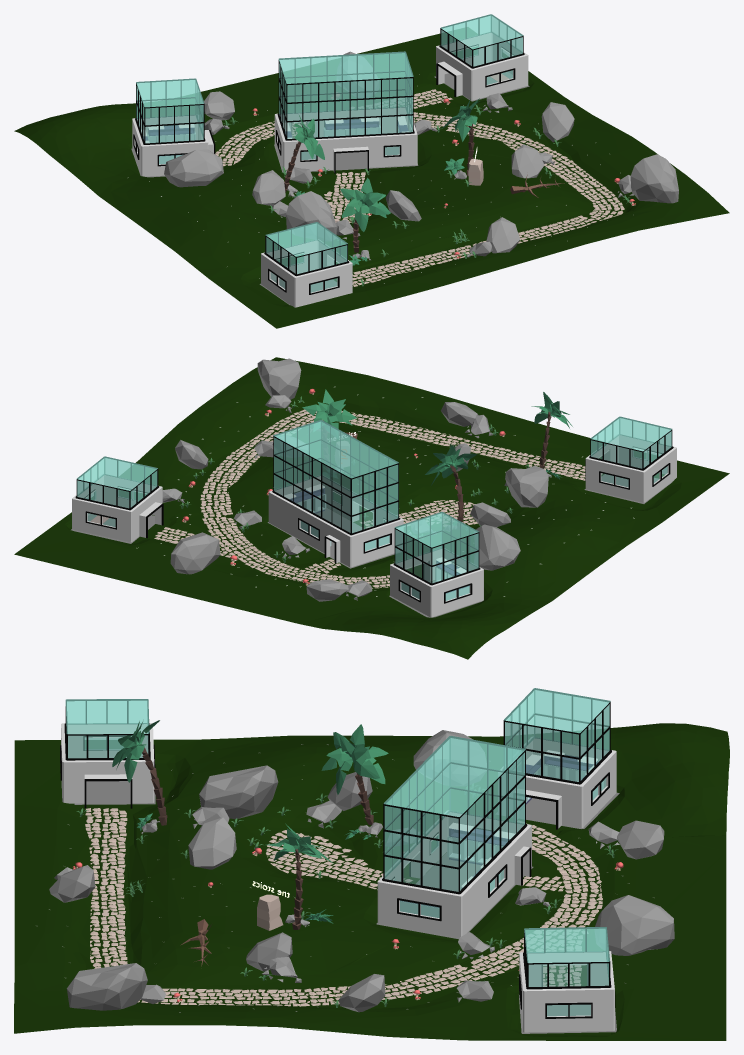
The model's file is garden-final.glb.
3 renders of one model, top to bottom at view 1: azimuth 30°, elevation 25°; view 2: azimuth 150°, elevation 25°; view 3: azimuth 270°, elevation 25°, orthographic. The views are drawn at different scales.
Parts seen in each view (by area): view 1: terrain. base, main building, pathway, yoga room, quiz room, homeopathy building, stone 21, stone 1, stone 20, Plane, palmleaf.002, stone 15 (+10 smaller); view 2: terrain. base, main building, pathway, homeopathy building, quiz room, yoga room, Plane, stone 20, stone 19, stone 1, stone 21, palmleaf.012 (+7 smaller); view 3: terrain. base, main building, pathway, homeopathy building, yoga room, quiz room, Plane, stone 19, stone 21, stone 1, stone 20, palmleaf.005 (+13 smaller).
Boxes of the visible parts, x1,y1,x2,y2 form: terrain. base: [14, 27, 729, 328]; main building: [274, 51, 417, 173]; pathway: [215, 89, 624, 286]; yoga room: [436, 14, 528, 100]; quiz room: [261, 222, 352, 307]; homeopathy building: [132, 78, 215, 176]; stone 21: [630, 154, 678, 203]; stone 1: [286, 191, 336, 240]; stone 20: [164, 149, 223, 187]; Plane: [131, 72, 529, 304]; palmleaf.002: [340, 177, 390, 231]; stone 15: [541, 102, 574, 142]; terrain. base: [14, 357, 729, 659]; main building: [268, 420, 403, 567]; pathway: [154, 409, 602, 588]; homeopathy building: [390, 511, 483, 617]; quiz room: [585, 416, 676, 502]; yoga room: [72, 456, 163, 542]; Plane: [71, 474, 672, 617]; stone 20: [474, 524, 520, 570]; stone 19: [170, 532, 220, 574]; stone 1: [505, 466, 548, 507]; stone 21: [257, 358, 301, 399]; palmleaf.012: [302, 389, 356, 437]; terrain. base: [14, 723, 729, 1040]; main building: [377, 736, 531, 937]; pathway: [85, 808, 602, 1006]; homeopathy building: [498, 688, 616, 829]; yoga room: [519, 927, 615, 1032]; quiz room: [60, 699, 155, 808]; Plane: [74, 781, 619, 1033]; stone 19: [595, 895, 674, 955]; stone 21: [66, 963, 147, 1010]; stone 1: [199, 765, 278, 819]; stone 20: [413, 730, 486, 785]; palmleaf.005: [321, 724, 388, 794].
Size of the model in its own units: 31.12 by 6.15 by 31.14.
